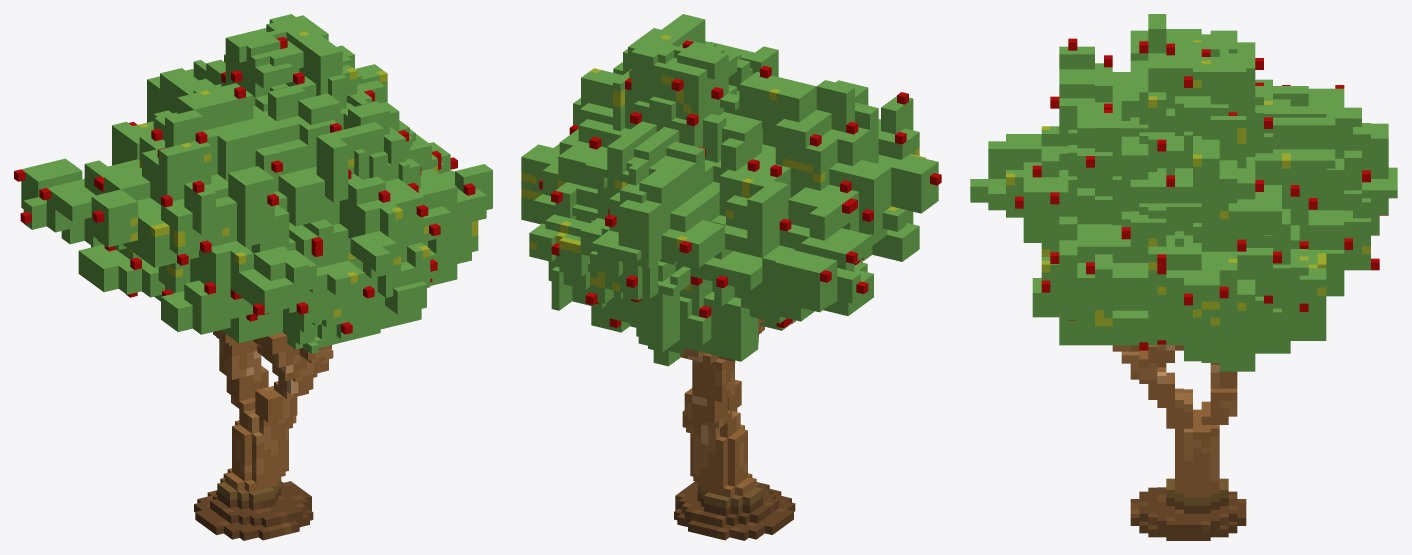
The model's file is Arbórea - Pitanga.obj.
3 renders of one model, left to right at view 1: azimuth 30°, elevation 25°; view 2: azimuth 150°, elevation 25°; view 3: azimuth 270°, elevation 25°, orthographic. The views are drawn at different scales.
Size of the model in its own units: 5.2 by 6 by 4.8.
Materials: 1 (1 with a texture image).
